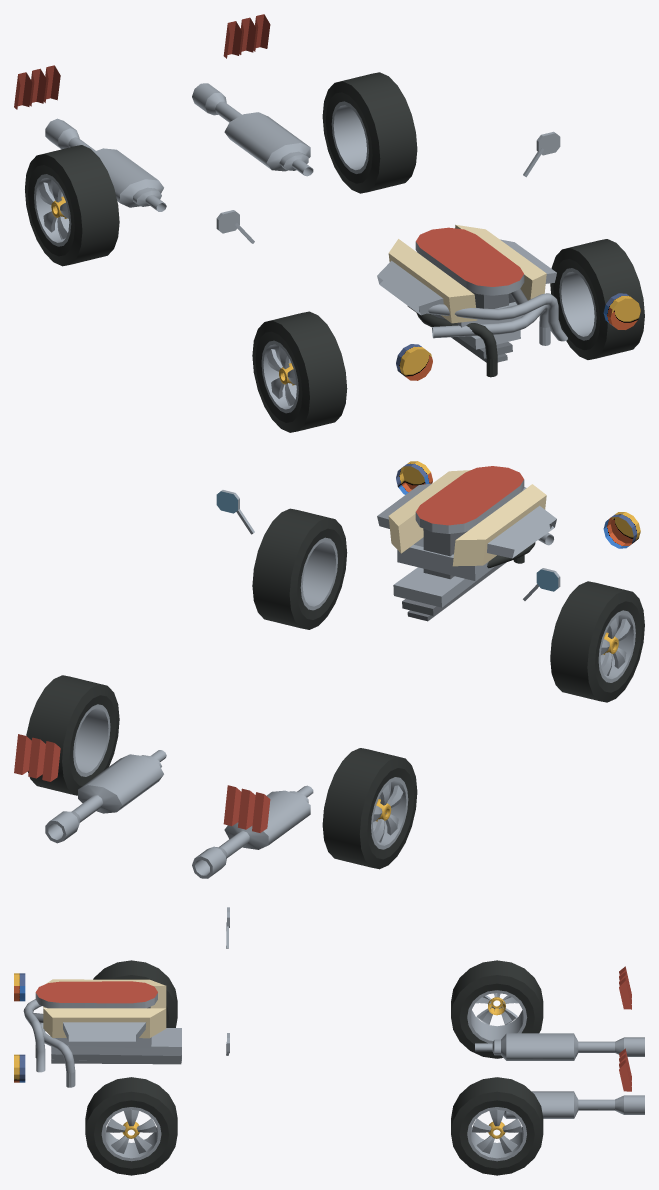
The model's file is parti_condivise_nuove.fbx.
3 renders of one model, top to bottom at view 1: azimuth 30°, elevation 25°; view 2: azimuth 150°, elevation 25°; view 3: azimuth 270°, elevation 25°, orthographic. The views are drawn at different scales.
Parts seen in each view (by area): view 1: motore_nuovo_3, ruota_post_dx_nuova, ruota_post_sx_nuova1, ruota_ant_dx_nuova, ruota_ant_sx_nuova1, scarico_nuovo_3, fari_post_nuovi_3, fari_anteriori_nuovi_3, specchietti_nuovi1; view 2: motore_nuovo_3, ruota_ant_dx_nuova, ruota_post_dx_nuova, ruota_ant_sx_nuova1, scarico_nuovo_3, ruota_post_sx_nuova1, fari_post_nuovi_3, fari_anteriori_nuovi_3, specchietti_nuovi1; view 3: motore_nuovo_3, ruota_post_sx_nuova1, ruota_ant_sx_nuova1, ruota_post_dx_nuova, scarico_nuovo_3, ruota_ant_dx_nuova, fari_post_nuovi_3, fari_anteriori_nuovi_3.
Boxes of the visible parts, left/top/right/bottom form: motore_nuovo_3: left=377, top=224, right=567, bottom=377; ruota_post_dx_nuova: left=25, top=145, right=119, bottom=266; ruota_post_sx_nuova1: left=322, top=72, right=417, bottom=193; ruota_ant_dx_nuova: left=252, top=311, right=347, bottom=432; ruota_ant_sx_nuova1: left=550, top=239, right=644, bottom=359; scarico_nuovo_3: left=45, top=83, right=313, bottom=211; fari_post_nuovi_3: left=14, top=14, right=270, bottom=109; fari_anteriori_nuovi_3: left=396, top=293, right=640, bottom=380; specchietti_nuovi1: left=216, top=131, right=560, bottom=243; motore_nuovo_3: left=377, top=466, right=556, bottom=621; ruota_ant_dx_nuova: left=550, top=581, right=644, bottom=702; ruota_post_dx_nuova: left=322, top=748, right=417, bottom=869; ruota_ant_sx_nuova1: left=252, top=508, right=347, bottom=629; scarico_nuovo_3: left=45, top=750, right=313, bottom=878; ruota_post_sx_nuova1: left=26, top=675, right=119, bottom=795; fari_post_nuovi_3: left=14, top=734, right=270, bottom=832; fari_anteriori_nuovi_3: left=396, top=461, right=640, bottom=548; specchietti_nuovi1: left=216, top=490, right=560, bottom=600; motore_nuovo_3: left=23, top=979, right=181, bottom=1087; ruota_post_sx_nuova1: left=451, top=1077, right=543, bottom=1175; ruota_ant_sx_nuova1: left=85, top=1077, right=177, bottom=1175; ruota_post_dx_nuova: left=451, top=960, right=543, bottom=1058; scarico_nuovo_3: left=475, top=1033, right=644, bottom=1118; ruota_ant_dx_nuova: left=93, top=960, right=177, bottom=1027; fari_post_nuovi_3: left=619, top=966, right=631, bottom=1091; fari_anteriori_nuovi_3: left=14, top=973, right=25, bottom=1082.
Bounding box in the file's own units: 205 × 98.17 × 409.
1 material, 1 textured.
